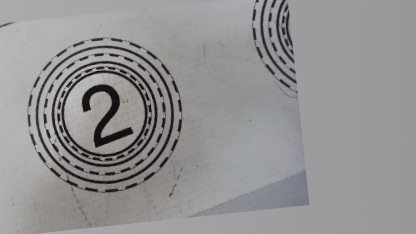2r: (17, 28, 190, 202)
